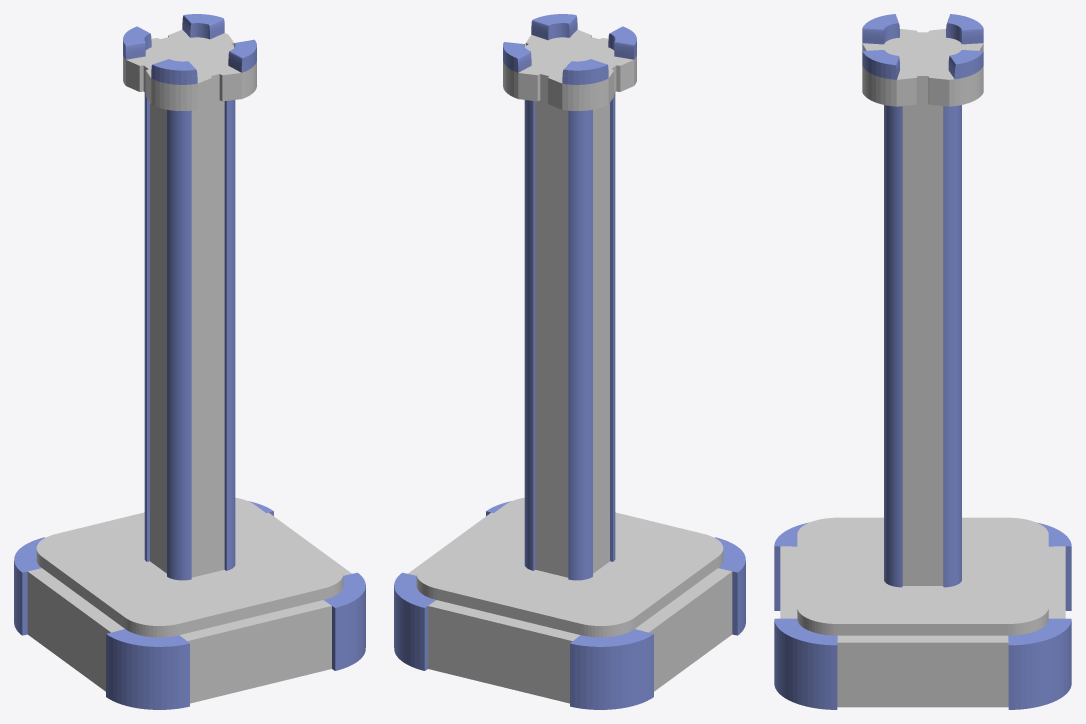
The model's file is slider_turret_stand.fbx.
3 renders of one model, left to right at view 1: azimuth 30°, elevation 25°; view 2: azimuth 150°, elevation 25°; view 3: azimuth 270°, elevation 25°, orthographic. The views are drawn at different scales.
Parts seen in each view (by area): view 1: Cube; view 2: Cube; view 3: Cube.
Part boxes in pixels (box(x1,y1,x2,y2)): Cube: box(14, 14, 365, 709); Cube: box(394, 14, 745, 709); Cube: box(774, 14, 1071, 709).
Bounding box in the file's own units: 209 × 470 × 209.
